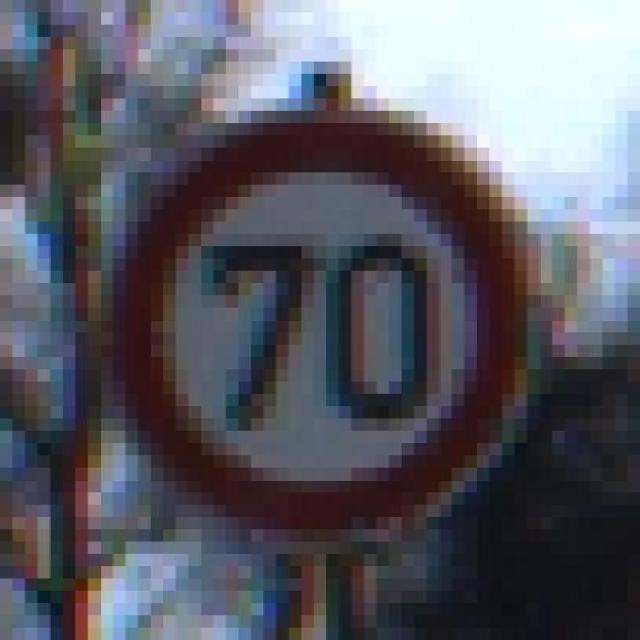forb_speed_over_70: (110, 111, 530, 542)
